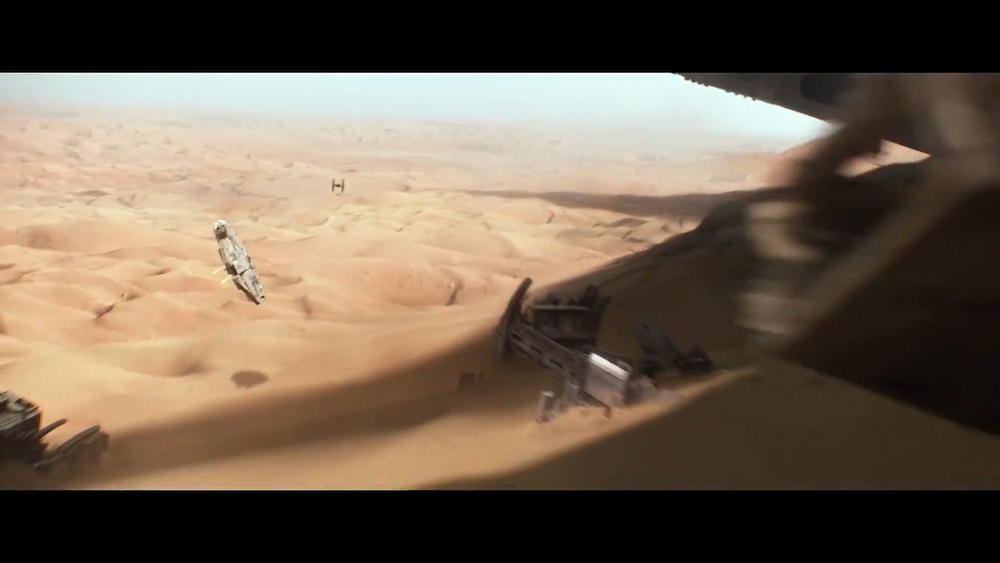Millennium Falcon: (213, 220, 267, 307)
Tie Fighter: (332, 179, 345, 194)
